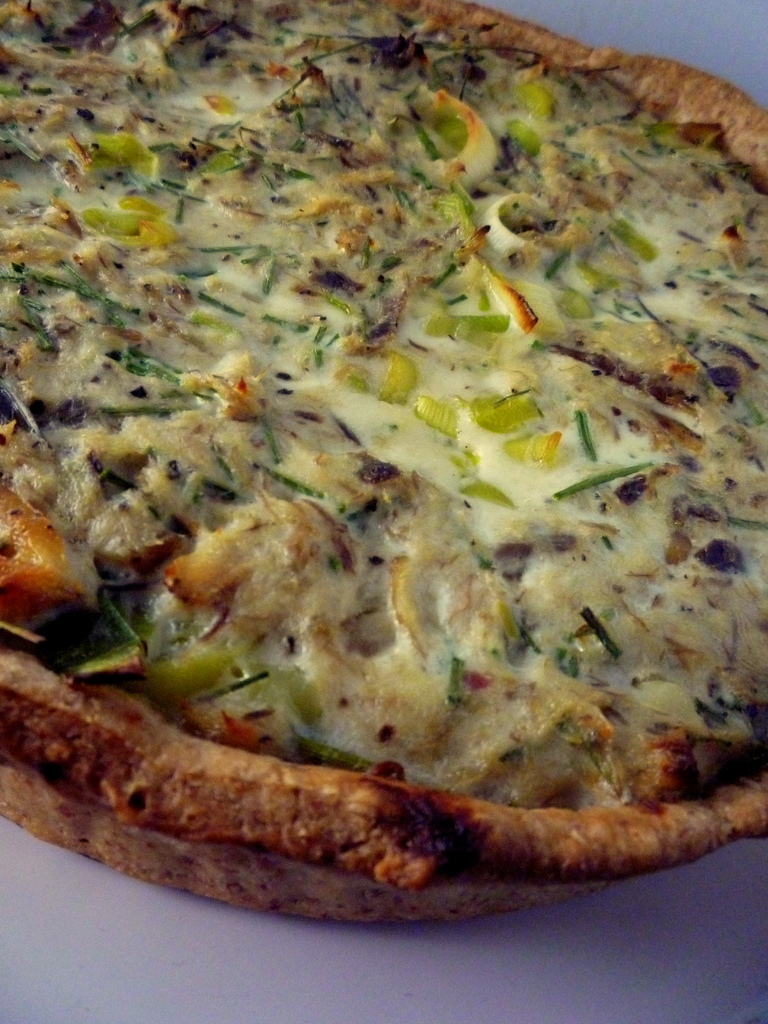Pizza: (0, 33, 768, 954)
